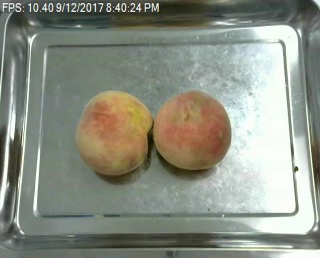Peach: (75, 89, 152, 175), (154, 90, 231, 170)
